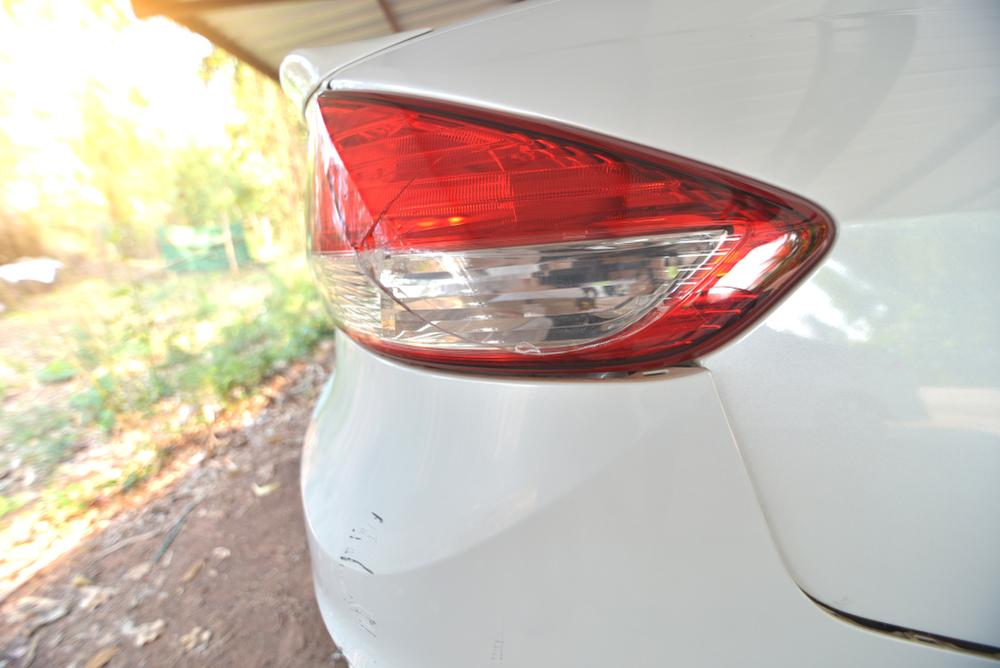lamp broken: (306, 90, 834, 375)
scratch: (336, 501, 387, 645)
